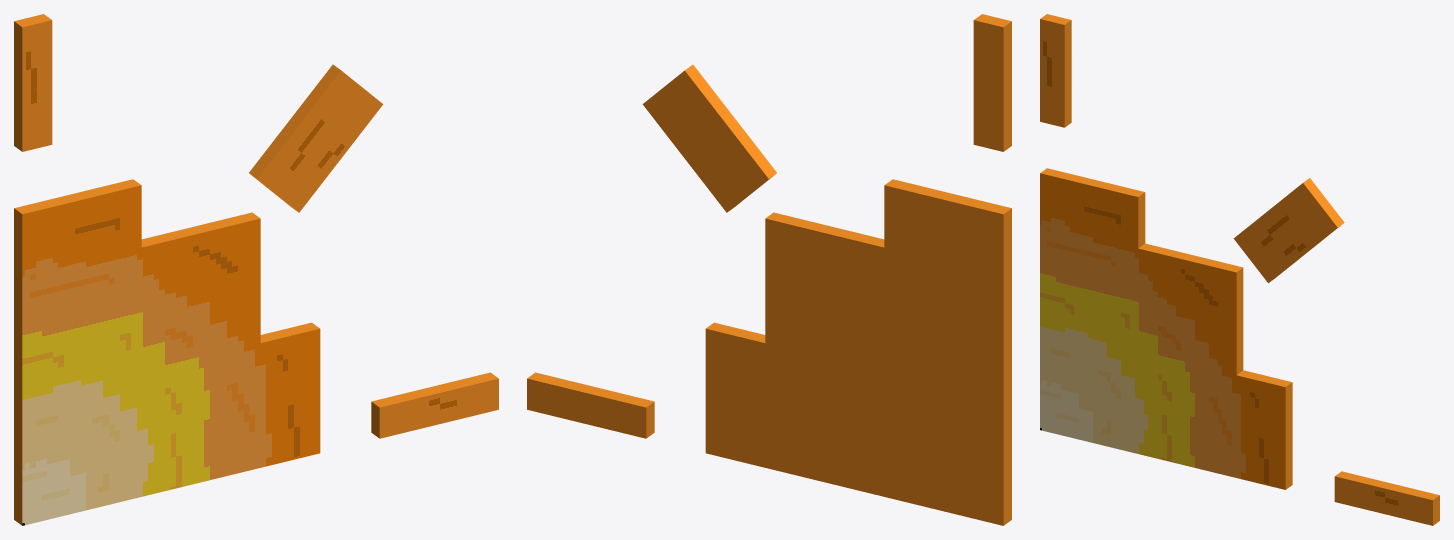
The model's file is Soleil_fragment.glb.
3 views of the same model, side by side, from view 1: azimuth 30°, elevation 25°; view 2: azimuth 150°, elevation 25°; view 3: azimuth 330°, elevation 25° (orthographic). The views are drawn at different scales.
Parts seen in each view (by area): view 1: Cube; view 2: Cube; view 3: Cube.
Boxes of the visible parts, x1,y1,x2,y2 form: Cube: (14,14,498,525); Cube: (527,14,1011,525); Cube: (1040,14,1439,525).
Size of the model in its own units: 1.6 by 1.6 by 0.0487.
1 material, 1 textured.
